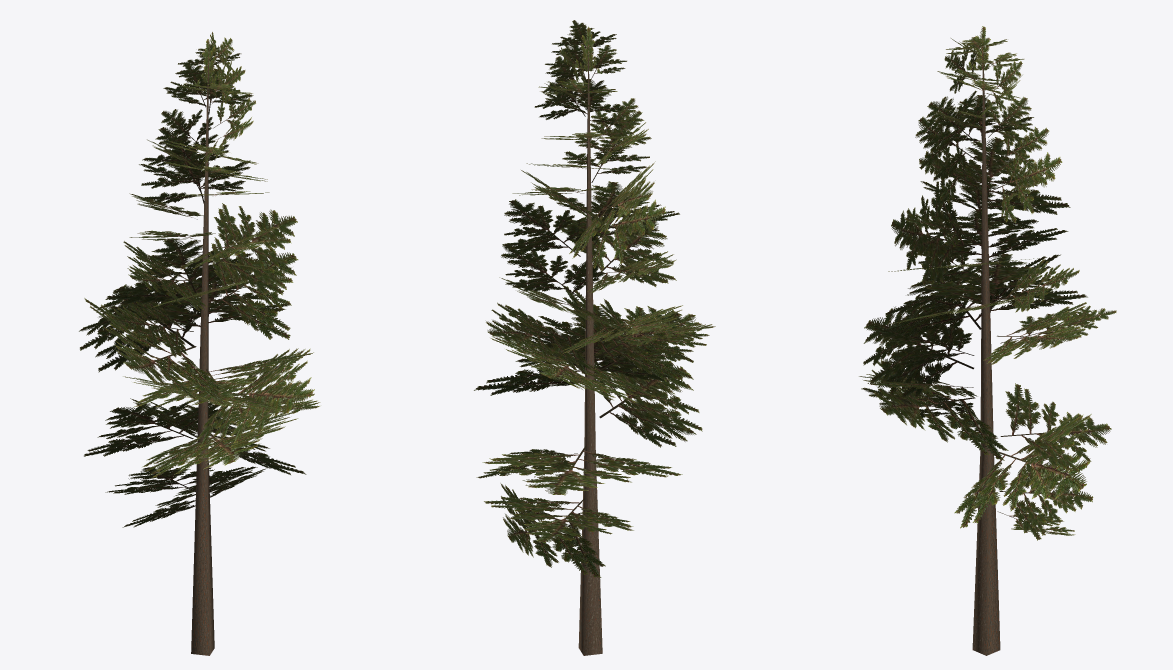
File: fir_medium_b_lod5.gltf
3 views of the same model, side by side, from view 1: azimuth 30°, elevation 25°; view 2: azimuth 150°, elevation 25°; view 3: azimuth 270°, elevation 25° (orthographic). The views are drawn at different scales.
Parts seen in each view (by area): view 1: fir_medium_b_LOD5; view 2: fir_medium_b_LOD5; view 3: fir_medium_b_LOD5.
Part boxes in pixels (x1,y1,x2,y2): fir_medium_b_LOD5: (79, 32, 320, 655); fir_medium_b_LOD5: (474, 20, 715, 655); fir_medium_b_LOD5: (859, 26, 1116, 655).
Size of the model in its own units: 12.45 by 23.6 by 12.01.
Materials: 2 (2 with a texture image).
